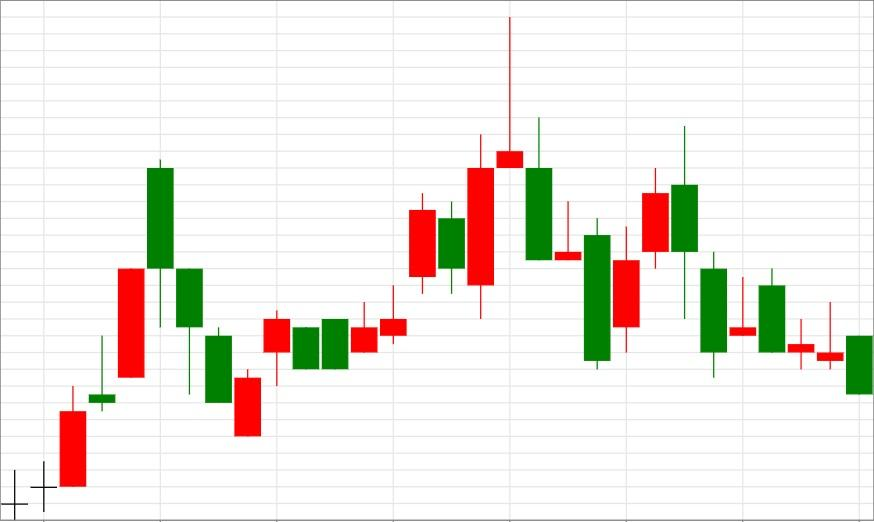bearish_engulfing_fall: (583, 126, 699, 371)
shooting_star_fall: (233, 17, 524, 437)
three_black_crows_fall: (0, 160, 233, 520)
